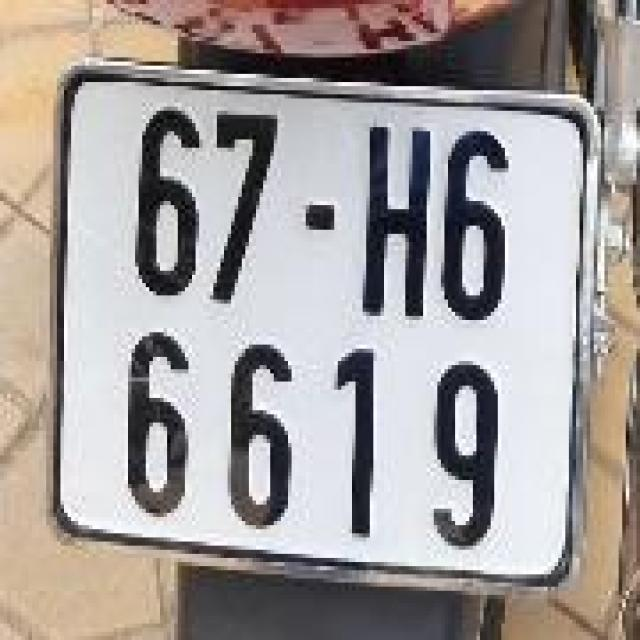1: (327, 326, 391, 552)
6: (109, 320, 198, 525), (208, 330, 293, 527), (130, 97, 204, 306), (436, 128, 506, 336)
7: (206, 90, 295, 320)
9: (418, 342, 503, 552)
H: (352, 104, 434, 338)
